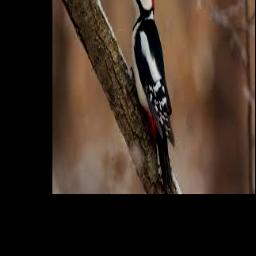Woodpecker: (124, 0, 174, 194)
